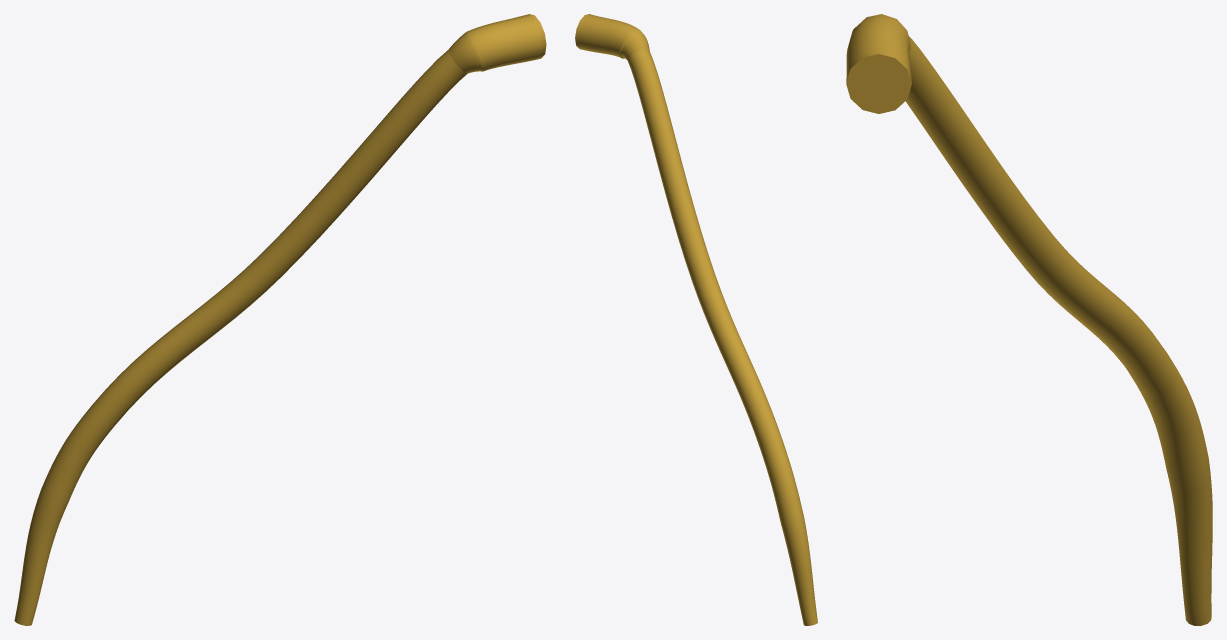
3 renders of one model, left to right at view 1: azimuth 30°, elevation 25°; view 2: azimuth 150°, elevation 25°; view 3: azimuth 270°, elevation 25°, orthographic. The views are drawn at different scales.
Parts seen in each view (by area): view 1: 右侧视神经; view 2: 右侧视神经; view 3: 右侧视神经.
Boxes of the visible parts, x1=… form: 右侧视神经: x1=14, y1=14, x2=546, y2=625; 右侧视神经: x1=575, y1=14, x2=817, y2=625; 右侧视神经: x1=846, y1=14, x2=1212, y2=625.
Size of the model in its own units: 0.045 by 0.0626 by 0.0247.
